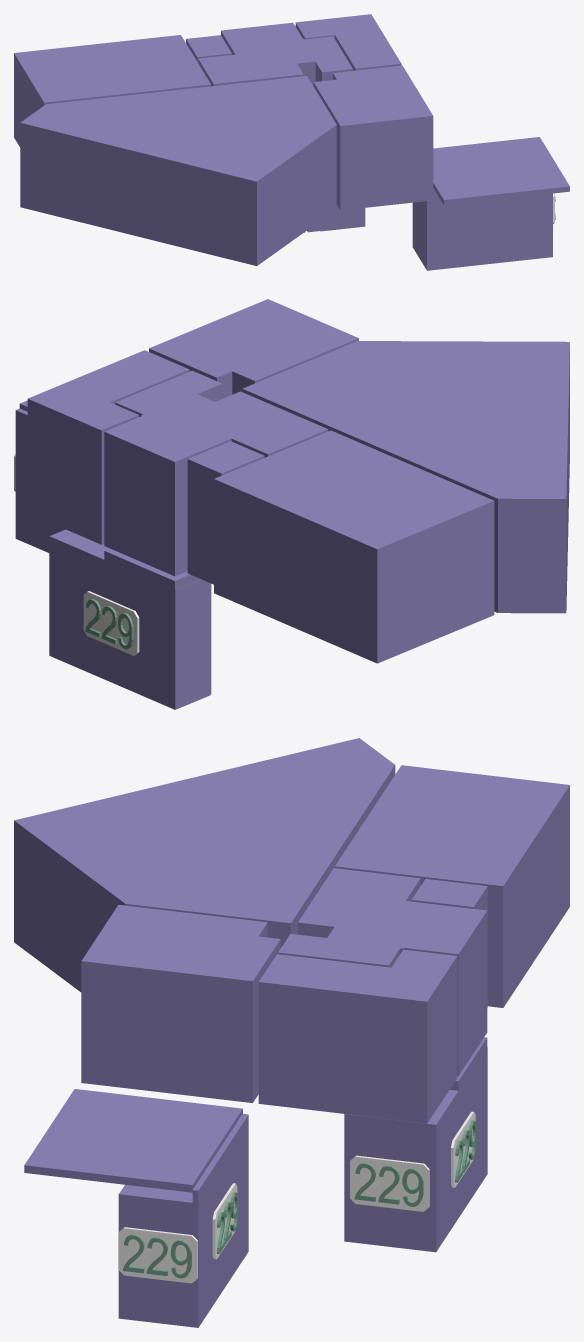
3 views of the same model, one above another, from view 1: azimuth 30°, elevation 25°; view 2: azimuth 150°, elevation 25°; view 3: azimuth 270°, elevation 25° (orthographic). The views are drawn at different scales.
Parts seen in each view (by area): view 1: g_2, g_7, g_3, g_1, g_10, g_4, g_6, g_8, g_0, g_5; view 2: g_3, g_2, g_6, g_9, g_8, g_7, g_4, g_0, g_5, g_1, g_22; view 3: g_2, g_7, g_6, g_3, g_10, g_1, g_0, g_4, g_8, g_9, g_14, g_18 (+1 smaller).
Part boxes in pixels (x1,y1,x2,y2): g_2: (20, 76, 336, 265); g_7: (313, 65, 433, 210); g_3: (14, 35, 210, 147); g_1: (412, 188, 552, 270); g_10: (433, 137, 569, 205); g_4: (198, 36, 352, 86); g_6: (295, 14, 401, 70); g_8: (221, 22, 302, 51); g_0: (307, 205, 365, 232); g_5: (186, 35, 231, 62); g_3: (214, 430, 494, 663); g_2: (242, 341, 569, 613); g_6: (27, 350, 189, 544); g_9: (88, 546, 211, 709); g_8: (104, 416, 214, 576); g_7: (149, 299, 358, 398); g_4: (115, 370, 328, 457); g_0: (49, 529, 104, 672); g_5: (187, 441, 264, 584); g_1: (15, 408, 65, 552); g_22: (83, 591, 139, 655); g_2: (14, 738, 395, 992); g_7: (81, 904, 280, 1102); g_6: (258, 949, 457, 1123); g_3: (335, 765, 569, 1007); g_10: (24, 1089, 242, 1192); g_1: (118, 1113, 248, 1327); g_0: (344, 1100, 451, 1252); g_4: (278, 868, 428, 967); g_8: (404, 903, 487, 1076); g_9: (443, 1037, 487, 1227); g_14: (350, 1155, 429, 1211); g_18: (118, 1227, 197, 1283).
Size of the model in its own units: 13.83 by 5.2 by 9.92.
